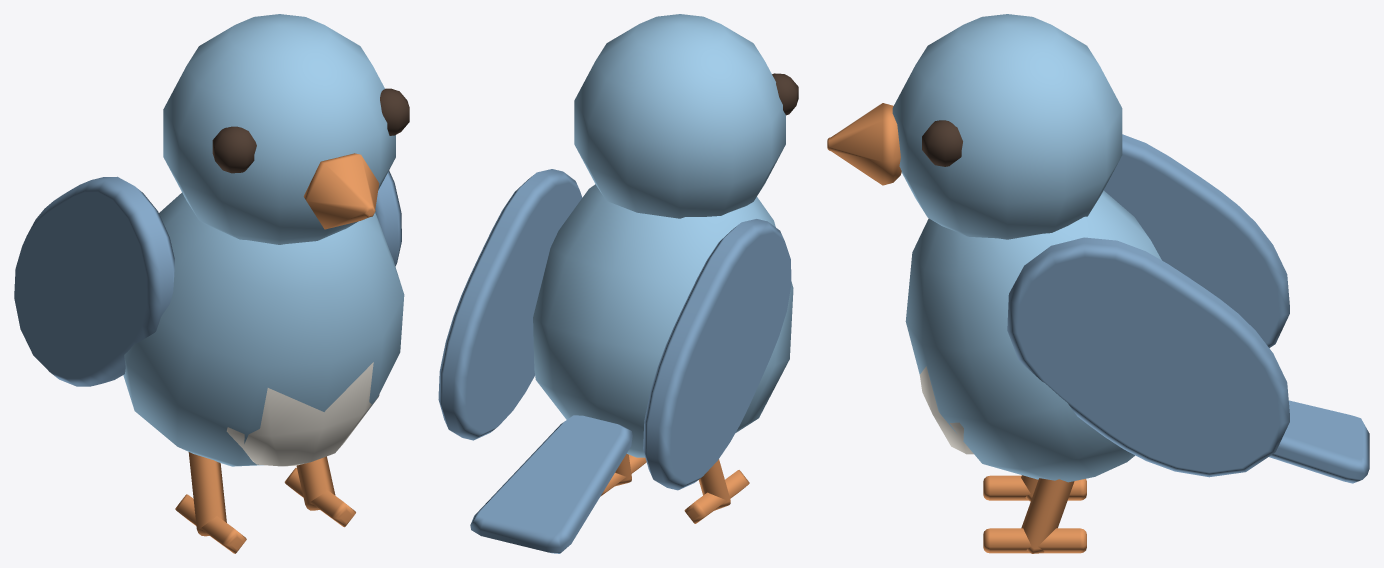
File: pet_bird_blue.glb
The picture shows the model from 3 angles, left to right: view 1: azimuth 30°, elevation 25°; view 2: azimuth 150°, elevation 25°; view 3: azimuth 270°, elevation 25°; orthographic projection. The views are drawn at different scales.
Parts seen in each view (by area): view 1: pet_bird_blue_mesh, pet_bird_blue_Head_mesh, pet_bird_blue_WingL_mesh, pet_bird_blue_WingR_mesh; view 2: pet_bird_blue_Head_mesh, pet_bird_blue_mesh, pet_bird_blue_WingL_mesh, pet_bird_blue_WingR_mesh, pet_bird_blue_Tail_mesh; view 3: pet_bird_blue_WingR_mesh, pet_bird_blue_Head_mesh, pet_bird_blue_mesh, pet_bird_blue_WingL_mesh, pet_bird_blue_Tail_mesh.
Boxes of the visible parts, x1,y1,x2,y2 form: pet_bird_blue_mesh: (123, 192, 404, 553); pet_bird_blue_Head_mesh: (163, 14, 409, 244); pet_bird_blue_WingL_mesh: (14, 176, 174, 386); pet_bird_blue_WingR_mesh: (375, 170, 401, 266); pet_bird_blue_Head_mesh: (574, 14, 798, 218); pet_bird_blue_mesh: (533, 184, 793, 523); pet_bird_blue_WingL_mesh: (643, 219, 791, 490); pet_bird_blue_WingR_mesh: (438, 169, 582, 440); pet_bird_blue_Tail_mesh: (470, 415, 632, 553); pet_bird_blue_WingR_mesh: (1007, 237, 1289, 477); pet_bird_blue_Head_mesh: (827, 14, 1122, 239); pet_bird_blue_mesh: (905, 190, 1161, 553); pet_bird_blue_WingL_mesh: (1104, 134, 1289, 347); pet_bird_blue_Tail_mesh: (1269, 400, 1369, 483).
Bounding box in the file's own units: 0.0846 × 0.16 × 0.1566.
